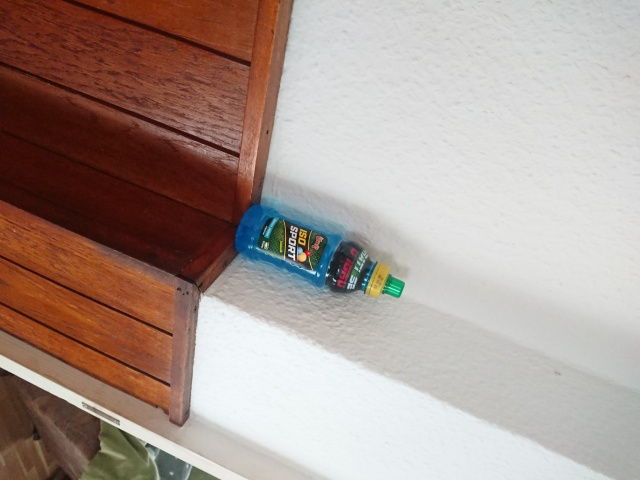Vindi Iso Sport Forest Strawberries 500mL: (233, 202, 406, 300)
